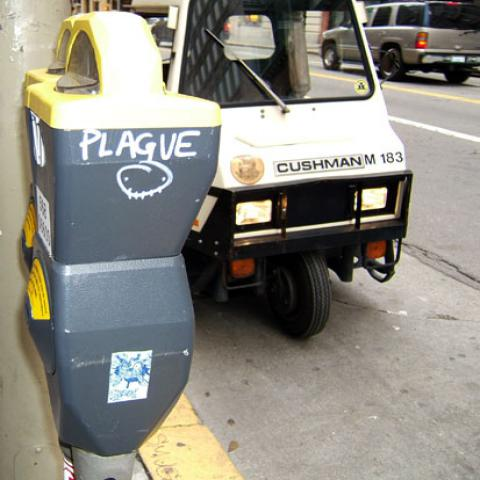truck: (138, 1, 412, 339), (366, 2, 479, 84)
